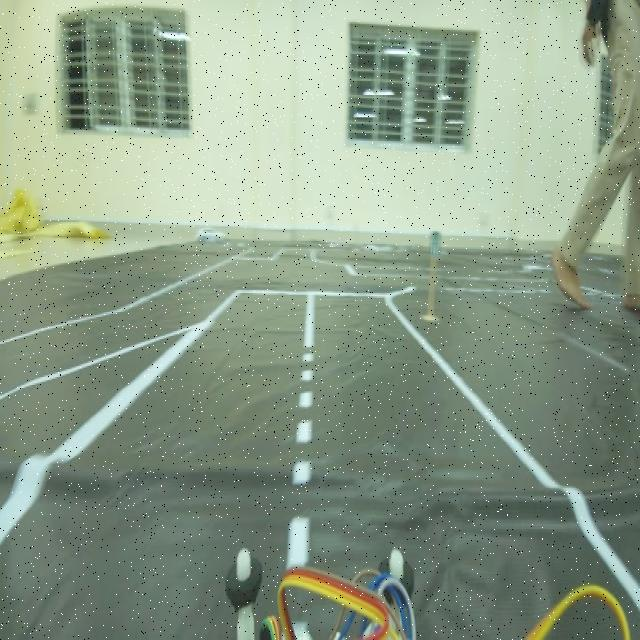highway_entry: (426, 222, 444, 264)
